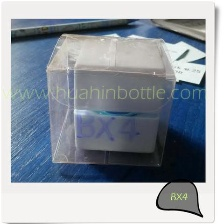plastic_box: (37, 25, 181, 174)
